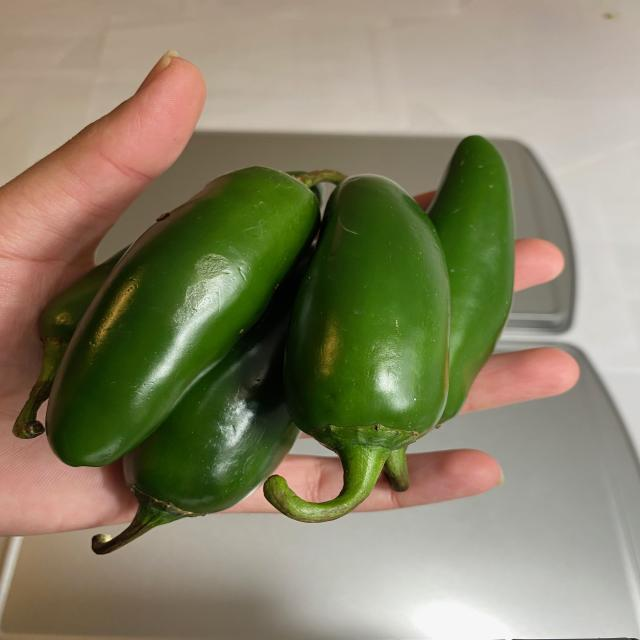chilli: (12, 128, 513, 566)
